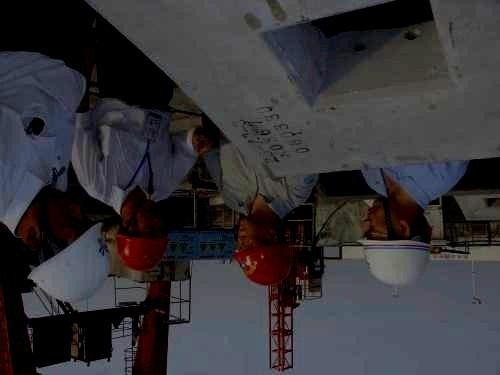helmet: (20, 192, 110, 304), (355, 197, 434, 286), (232, 216, 296, 286), (114, 199, 174, 272)
